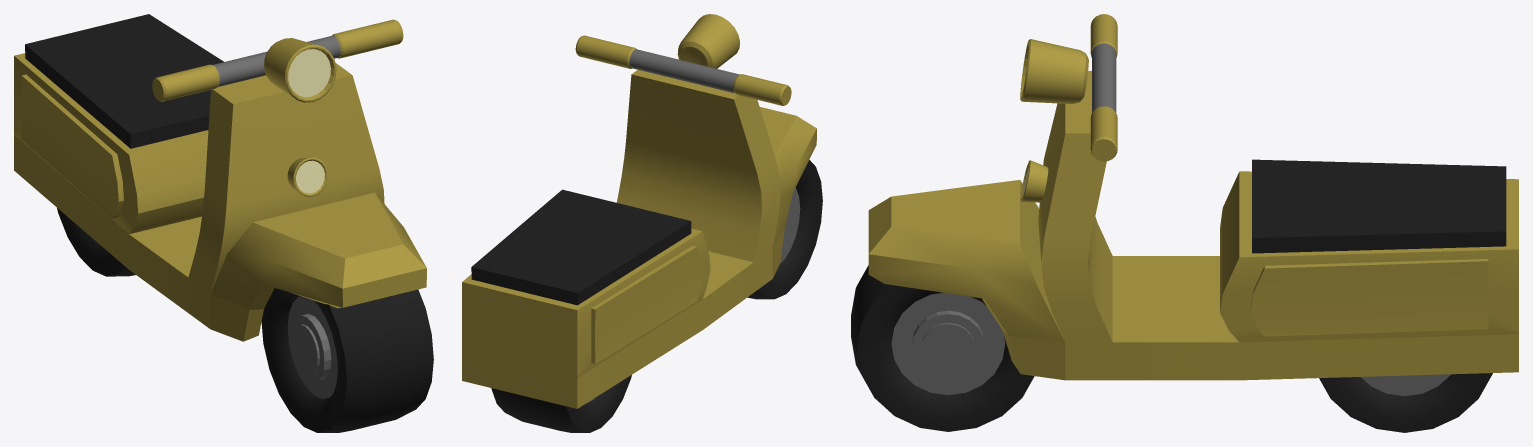
Rendered from bike (1).fbx.
The picture shows the model from 3 angles, left to right: view 1: azimuth 30°, elevation 25°; view 2: azimuth 150°, elevation 25°; view 3: azimuth 270°, elevation 25°; orthographic projection. The views are drawn at different scales.
Visible parts, largest first — view 1: pCube1, pCylinder1, pCylinder5, pCylinder4, pCylinder2, pCylinder6; view 2: pCube1, pCylinder5, pCylinder1, pCylinder2, pCylinder4; view 3: pCube1, pCylinder1, pCylinder2, pCylinder5, pCylinder4, pCylinder6.
Part boxes in pixels (x1=…): pCube1: x1=14, y1=14, x2=426, y2=341; pCylinder1: x1=261, y1=288, x2=433, y2=432; pCylinder5: x1=152, y1=19, x2=403, y2=101; pCylinder4: x1=264, y1=38, x2=336, y2=102; pCylinder2: x1=57, y1=208, x2=135, y2=276; pCylinder6: x1=287, y1=157, x2=328, y2=196; pCube1: x1=462, y1=70, x2=816, y2=408; pCylinder5: x1=575, y1=35, x2=791, y2=105; pCylinder1: x1=747, y1=160, x2=822, y2=299; pCylinder2: x1=491, y1=375, x2=631, y2=432; pCylinder4: x1=677, y1=14, x2=739, y2=68; pCube1: x1=868, y1=71, x2=1518, y2=380; pCylinder1: x1=851, y1=265, x2=1034, y2=431; pCylinder2: x1=1319, y1=373, x2=1492, y2=432; pCylinder5: x1=1090, y1=14, x2=1117, y2=161; pCylinder4: x1=1020, y1=39, x2=1088, y2=103; pCylinder6: x1=1020, y1=160, x2=1048, y2=202.
Bounding box in the file's own units: 1.3 × 1.81 × 2.94.
